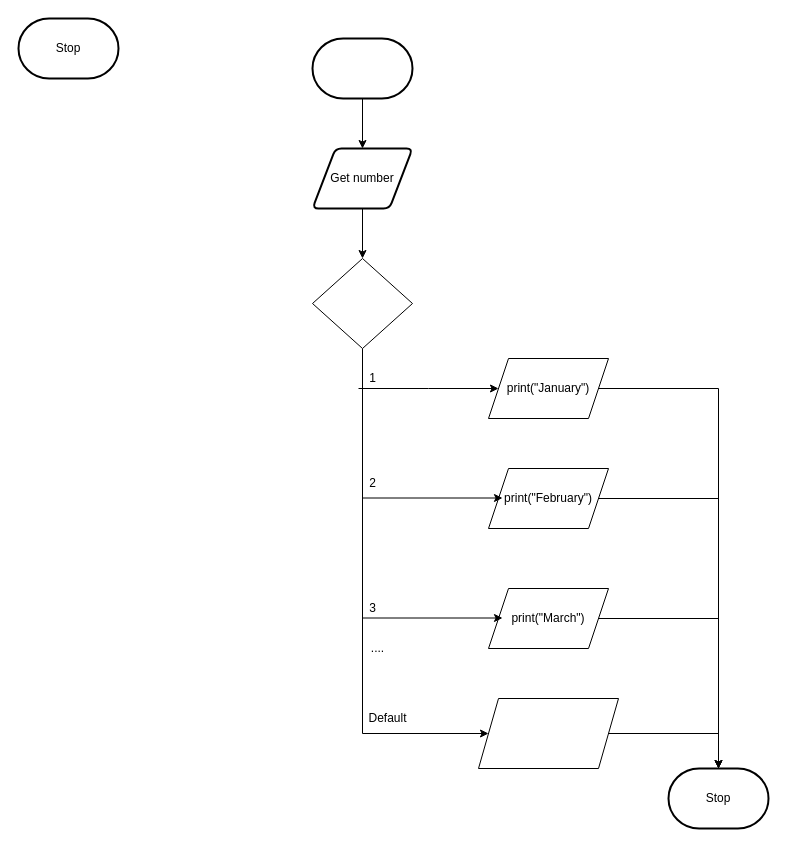
Image size: 786x846. Some labels were removed from this diagram. The shapes that lost their labels are listed below. From the top down, each one's box as (x1, y1, x2, y2) in pixels, then its label:
(311, 37, 413, 99): Start
(312, 258, 412, 348): Month number
(478, 698, 618, 768): print("Invalid Month")
